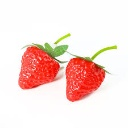strawberry: (63, 49, 106, 103), (18, 42, 63, 90)
